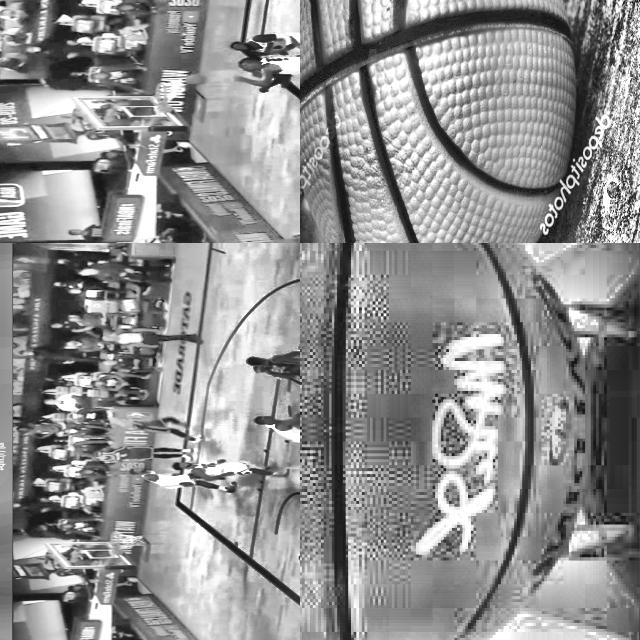Basketball: (300, 243, 585, 640), (300, 0, 577, 243), (183, 72, 205, 86)
